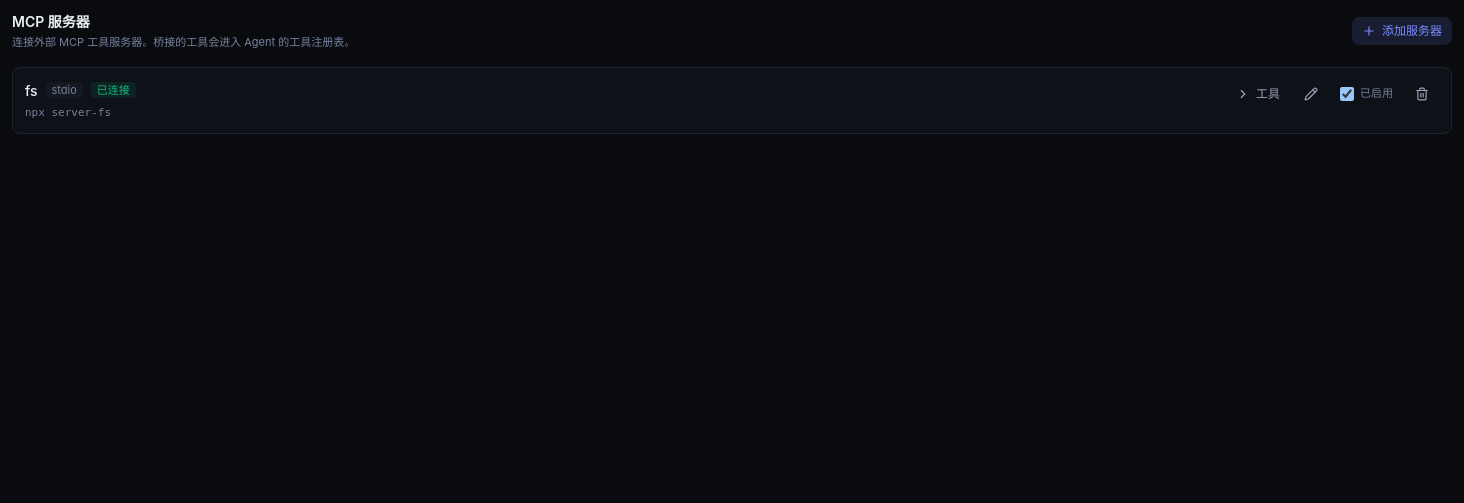
MCP tool tester (P1-5) › renders isError results with the error styling
The image size is (1464, 503).
Check: the list item with test id "settings-mcp-server-srv_1" is shown, box [12, 66, 1452, 134]
Click the button with test id "settings-mcp-expand-srv_1".
click(1258, 94)  # box [1226, 80, 1290, 108]
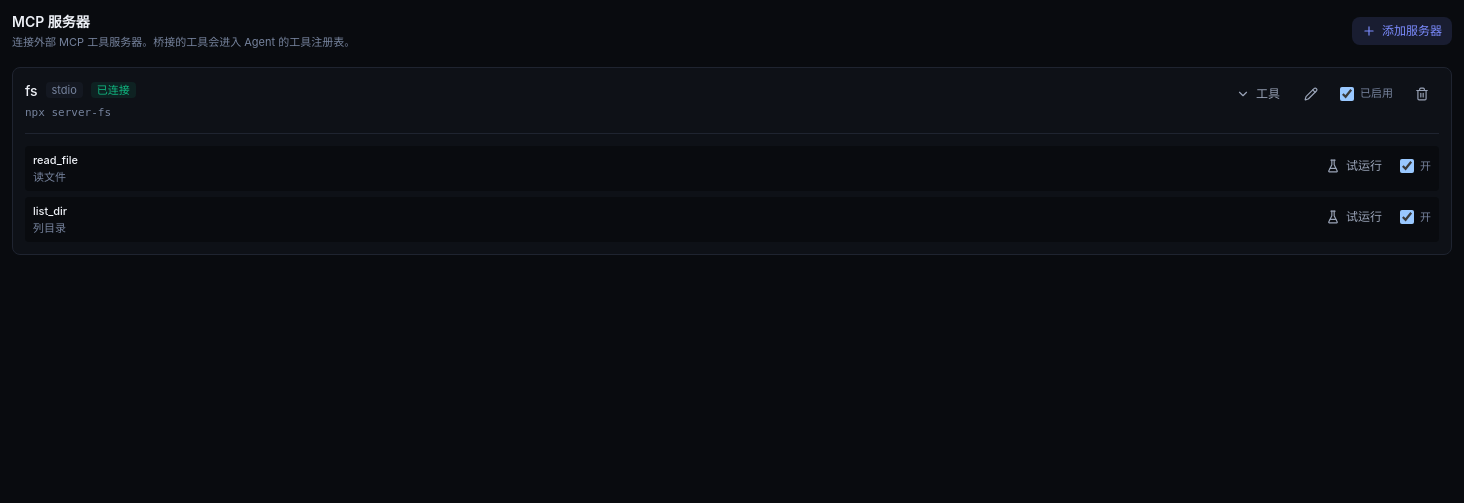
Check: the list with test id "settings-mcp-tools-srv_1" is shown, box [25, 146, 1439, 242]
Click the button with test id "settings-mcp-test-srv_1-read_file".
click(1354, 166)  # box [1316, 152, 1392, 180]
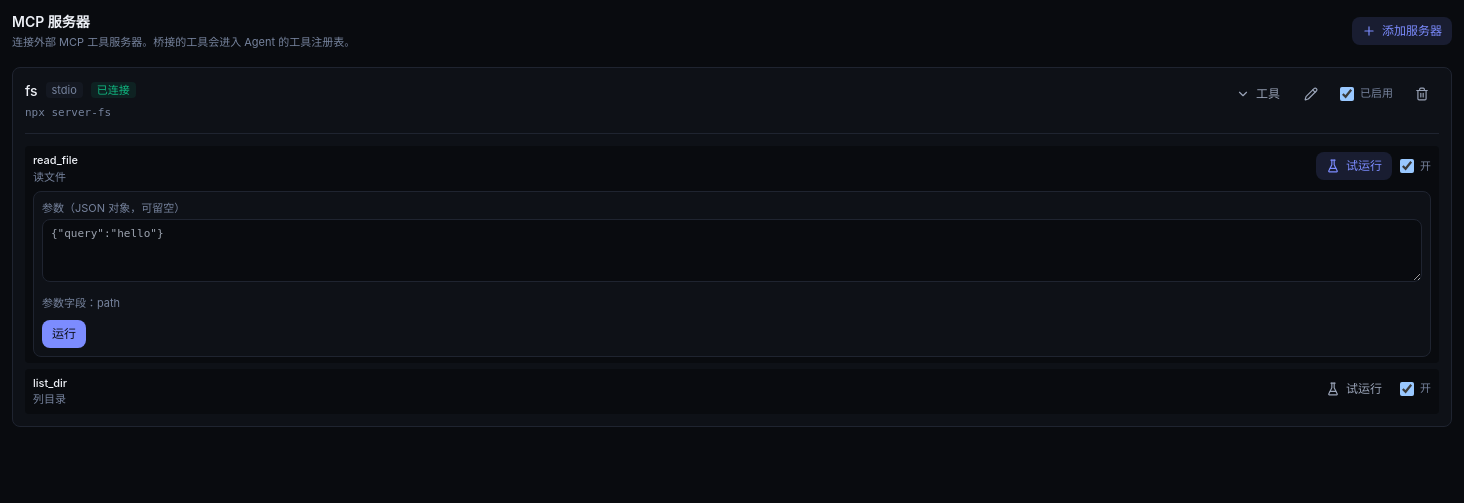
Check: the element with test id "settings-mcp-tester-srv_1-read_file" is shown, box [33, 191, 1431, 356]
Click the button with test id "settings-mcp-tester-run-srv_1-read_file".
click(64, 334)  # box [42, 320, 86, 348]
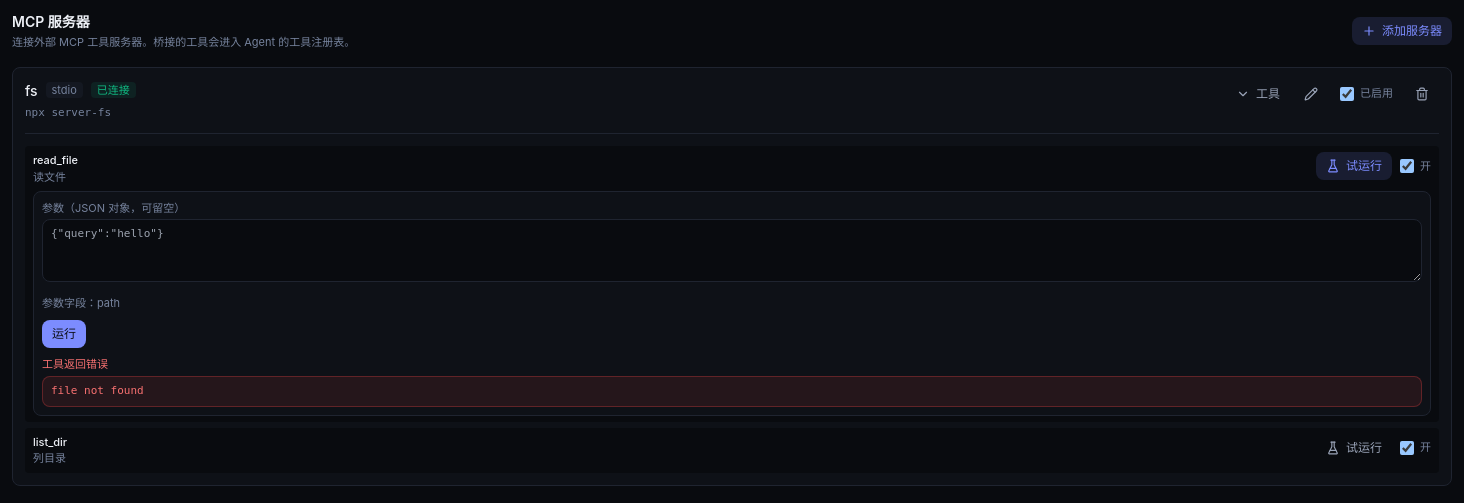
Check: the element with test id "settings-mcp-tester-result-srv_1-read_file" shows "工具返回错误", box [42, 356, 108, 370]
Check: the element with test id "settings-mcp-tester-result-srv_1-read_file" shows "file not found", box [51, 384, 144, 397]
